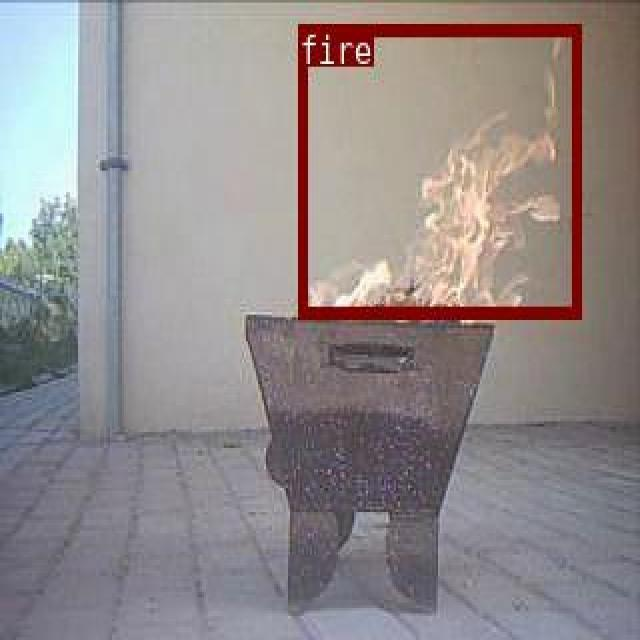fire: (298, 22, 580, 317)
